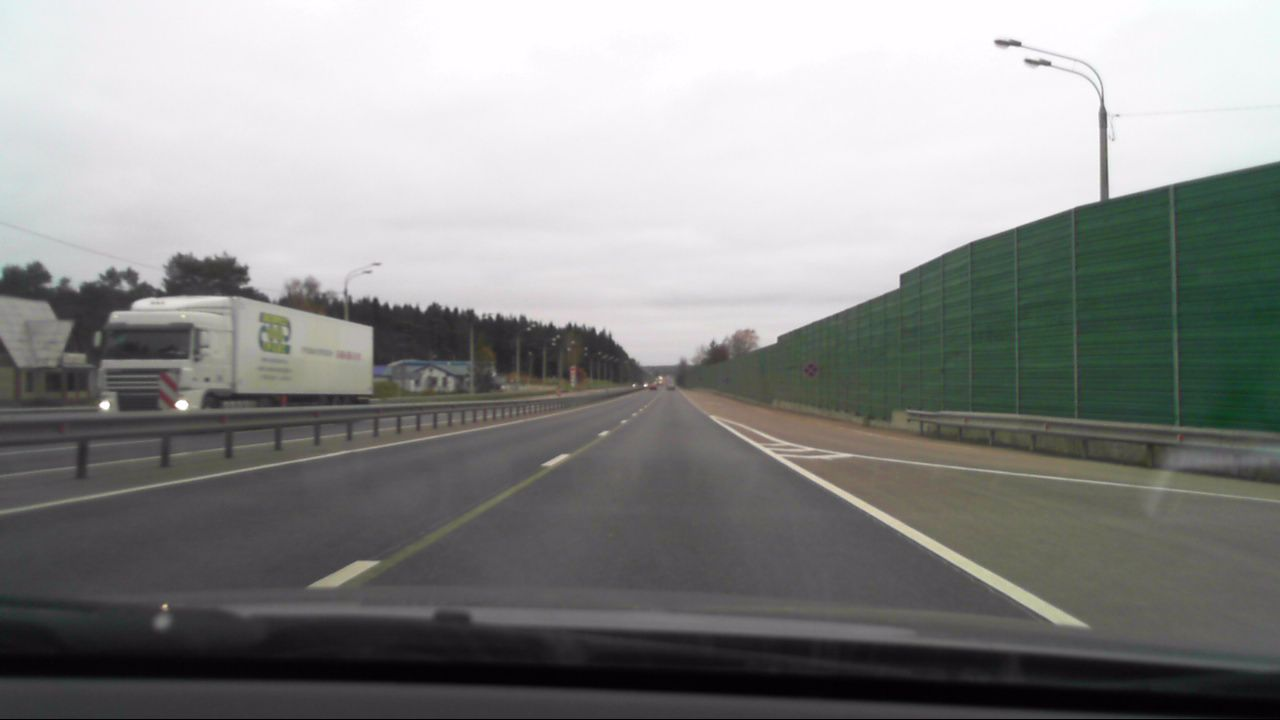No Parking: (800, 360, 820, 380)
